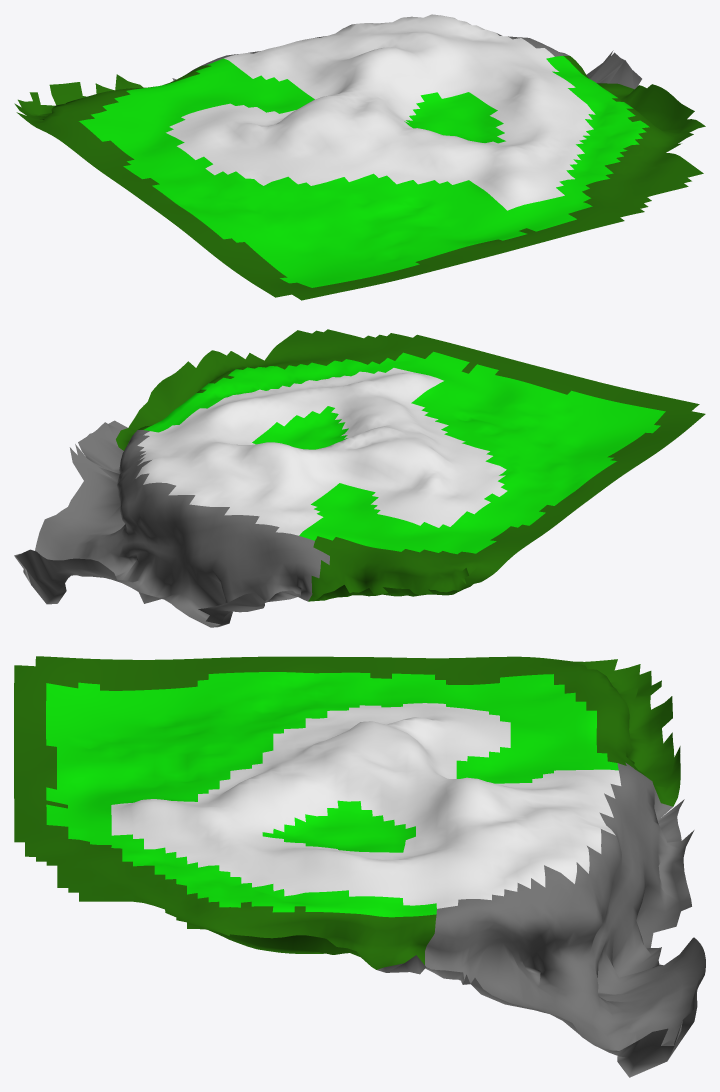
Rendered from Hub1.fbx.
3 views of the same model, one above another, from view 1: azimuth 30°, elevation 25°; view 2: azimuth 150°, elevation 25°; view 3: azimuth 270°, elevation 25° (orthographic). The views are drawn at different scales.
Parts seen in each view (by area): view 1: Cube; view 2: Cube; view 3: Cube.
Boxes of the visible parts, box(x1,y1,x2,y2) form: Cube: box(14, 14, 705, 300); Cube: box(14, 329, 705, 627); Cube: box(14, 656, 705, 1077).
Bounding box in the file's own units: 20928 × 6492 × 20840.
